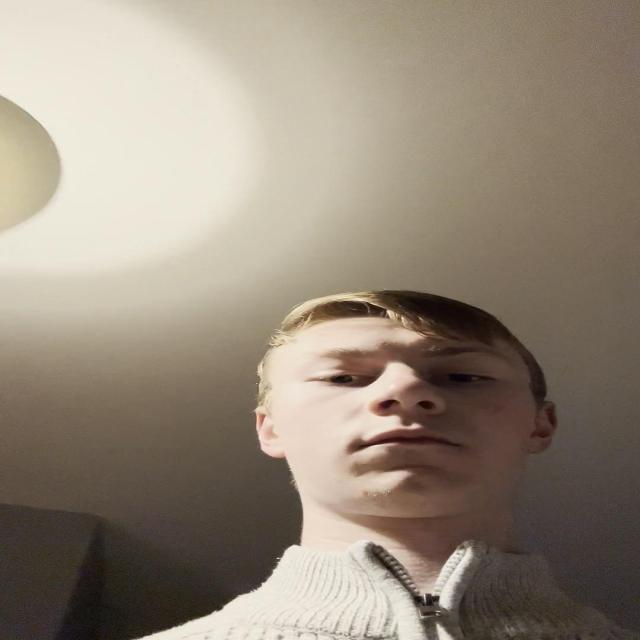no-helmet: (253, 287, 562, 547)
